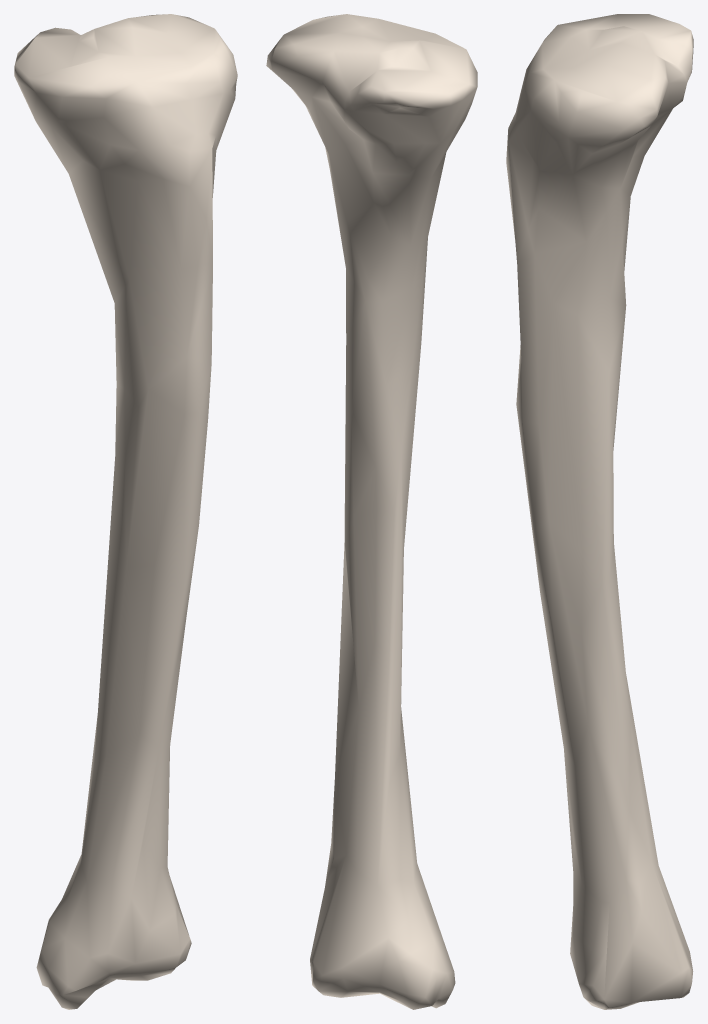
Rendered from left_tibia.glb.
3 views of the same model, side by side, from view 1: azimuth 30°, elevation 25°; view 2: azimuth 150°, elevation 25°; view 3: azimuth 270°, elevation 25° (orthographic).
Parts seen in each view (by area): view 1: Tibia.r; view 2: Tibia.r; view 3: Tibia.r.
Boxes of the visible parts, left/top/right/bottom form: Tibia.r: left=14, top=14, right=237, bottom=1009; Tibia.r: left=266, top=14, right=477, bottom=1009; Tibia.r: left=506, top=14, right=693, bottom=1009.
Bounding box in the file's own units: 0.0766 × 0.3591 × 0.0628.
